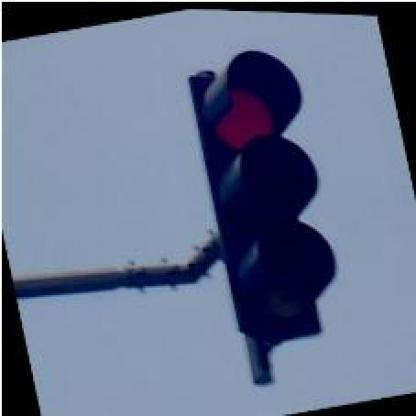red: (184, 37, 351, 348)
